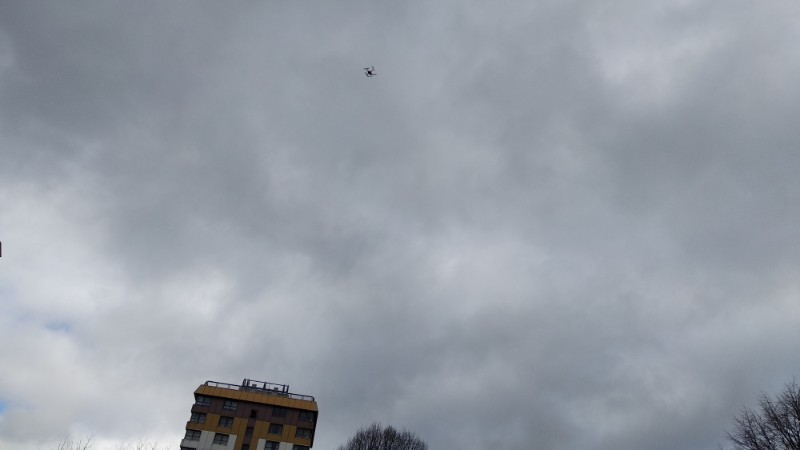drone: (364, 67, 376, 79)
